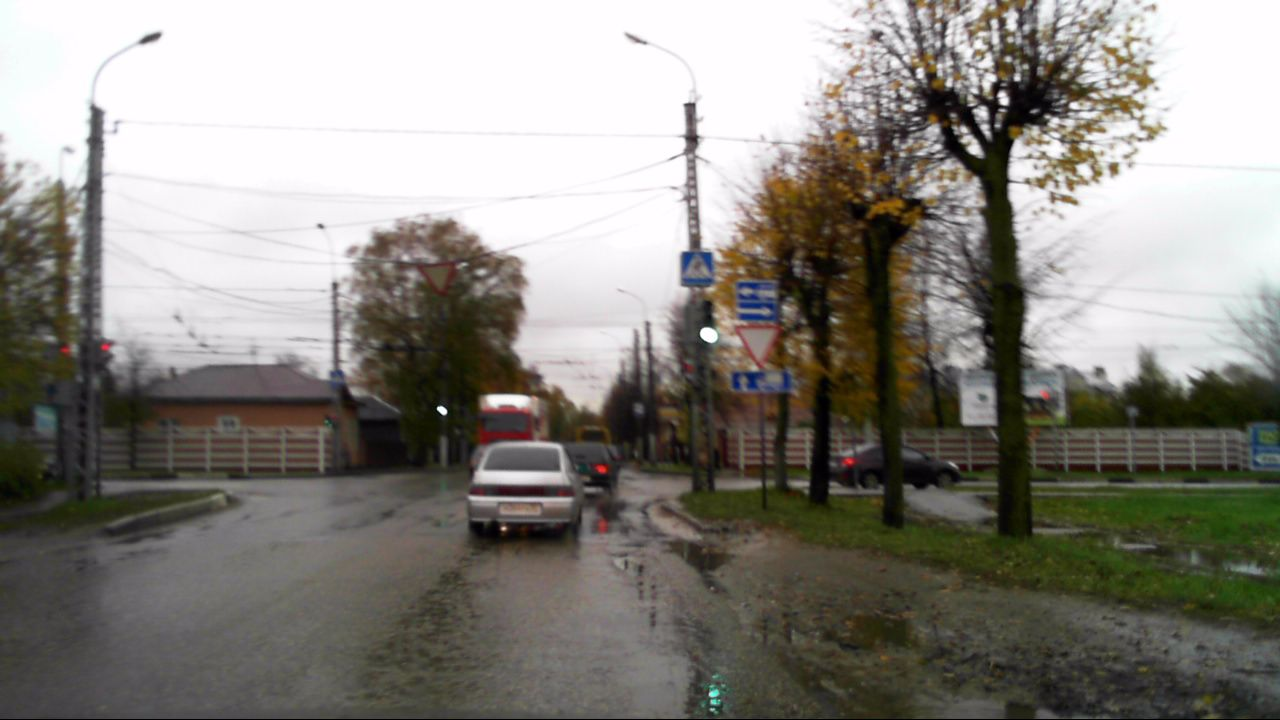One-Way Traffic: (735, 302, 777, 320)
